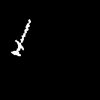double_crochet: (11, 20, 30, 55)
